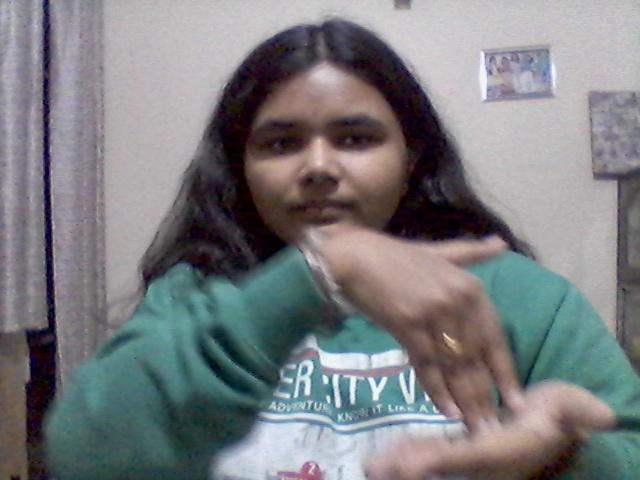repeat: (336, 230, 621, 480)
